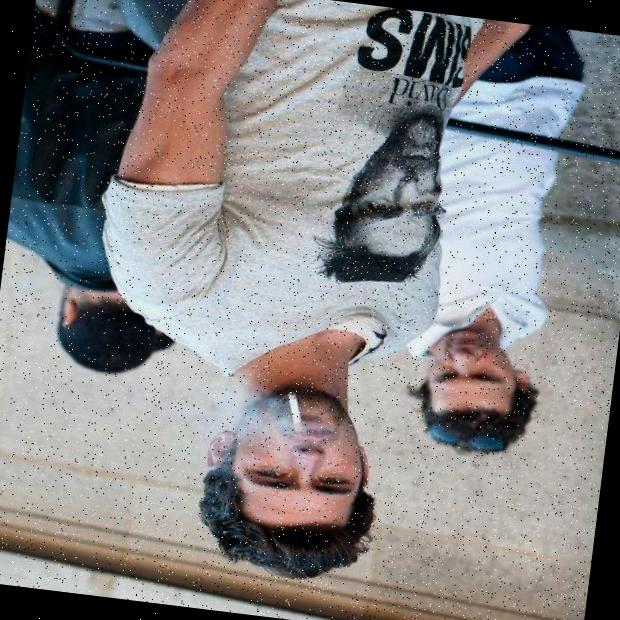smoke: (163, 379, 296, 458)
